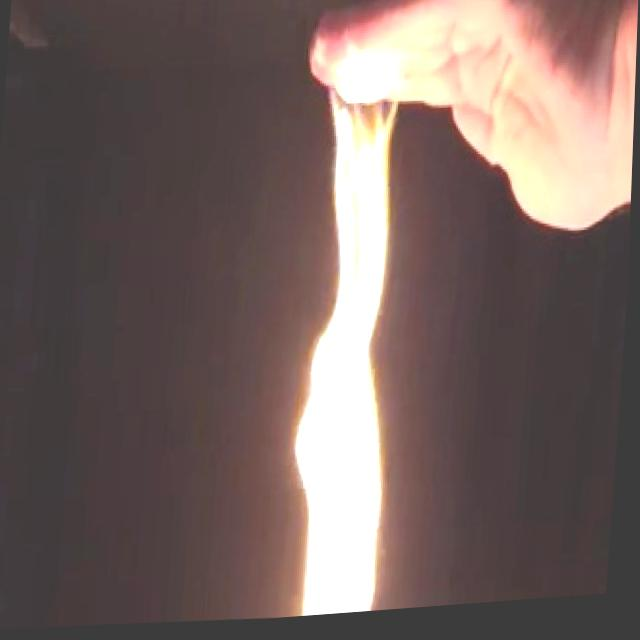Fire: (276, 51, 435, 623)
